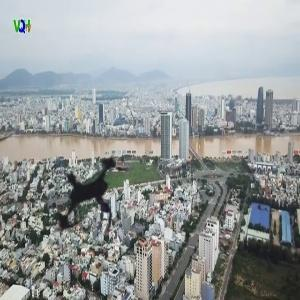drone: (3, 107, 179, 283)
